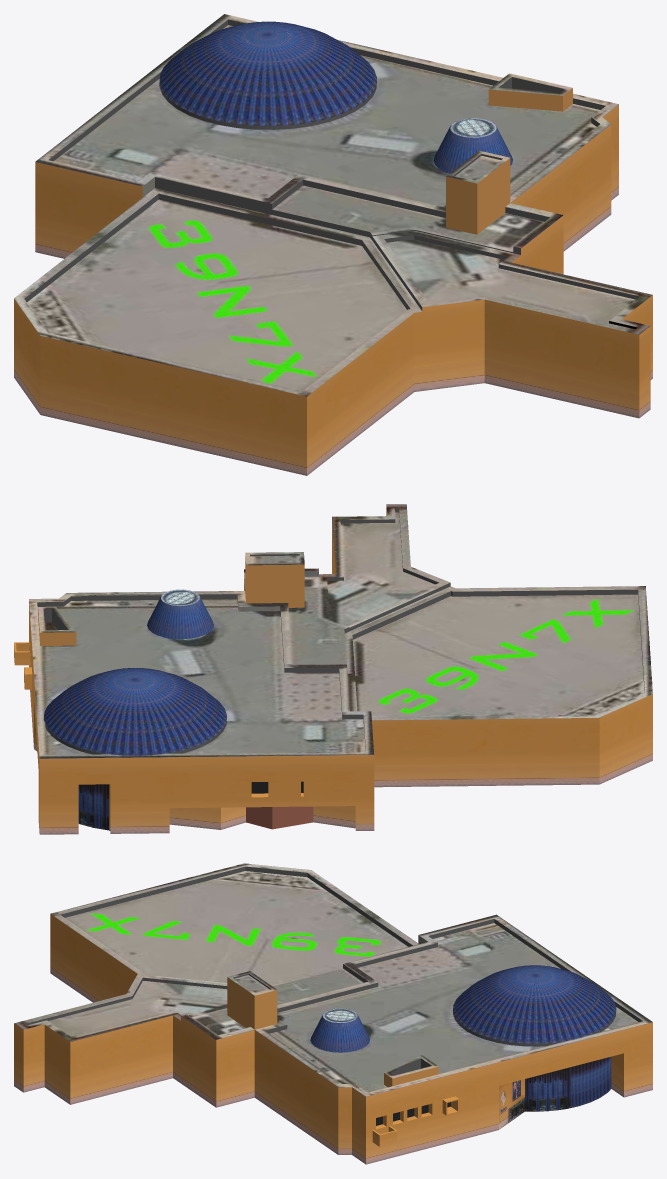
The model's file is TechMuseum_SanJose.dae.
3 views of the same model, one above another, from view 1: azimuth 30°, elevation 25°; view 2: azimuth 150°, elevation 25°; view 3: azimuth 270°, elevation 25° (orthographic). The views are drawn at different scales.
Visible parts, largest first — view 1: SketchUp (×17); view 2: SketchUp (×18); view 3: SketchUp (×17).
Boxes of the visible parts, x1=… form: SketchUp (×17): x1=14, y1=14, x2=652, y2=475; SketchUp (×18): x1=29, y1=504, x2=652, y2=834; SketchUp (×17): x1=14, y1=863, x2=652, y2=1164.
Bounding box in the file's own units: 4712 × 5194 × 914.
12 materials, 8 textured.
